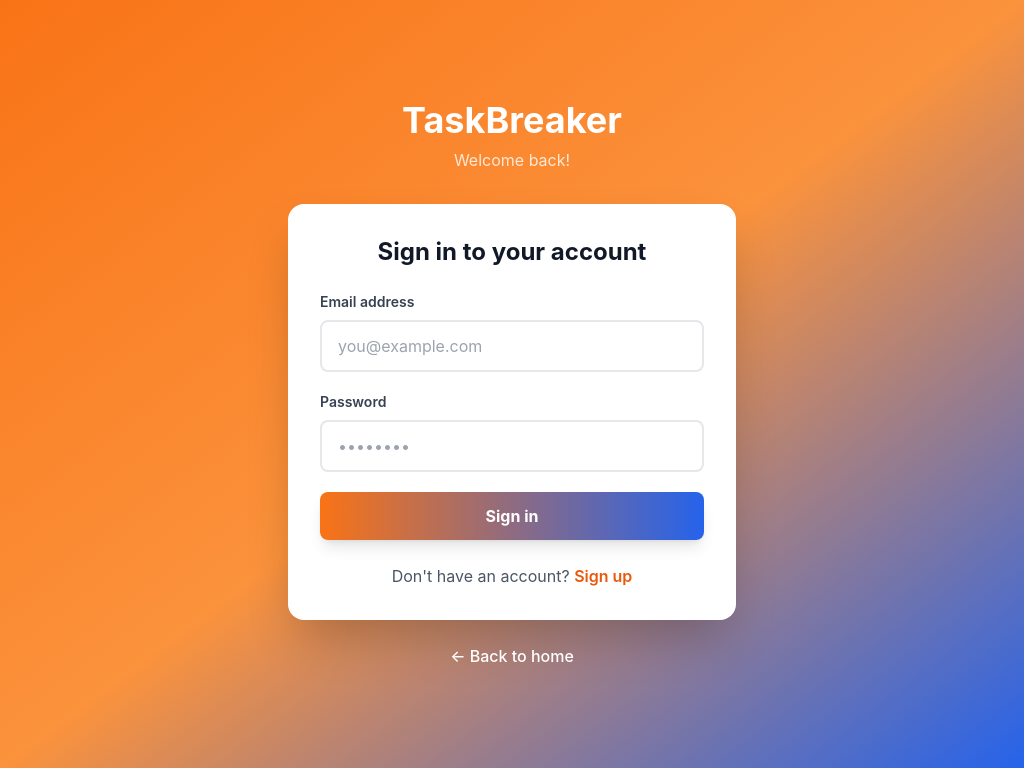
Test: LoginPage › Error Display › should clear error message when user retries
First attempt - fails
Type "test@example.com" into the field labelled "Email address" at (512, 346), box 320,320 -> 704,372
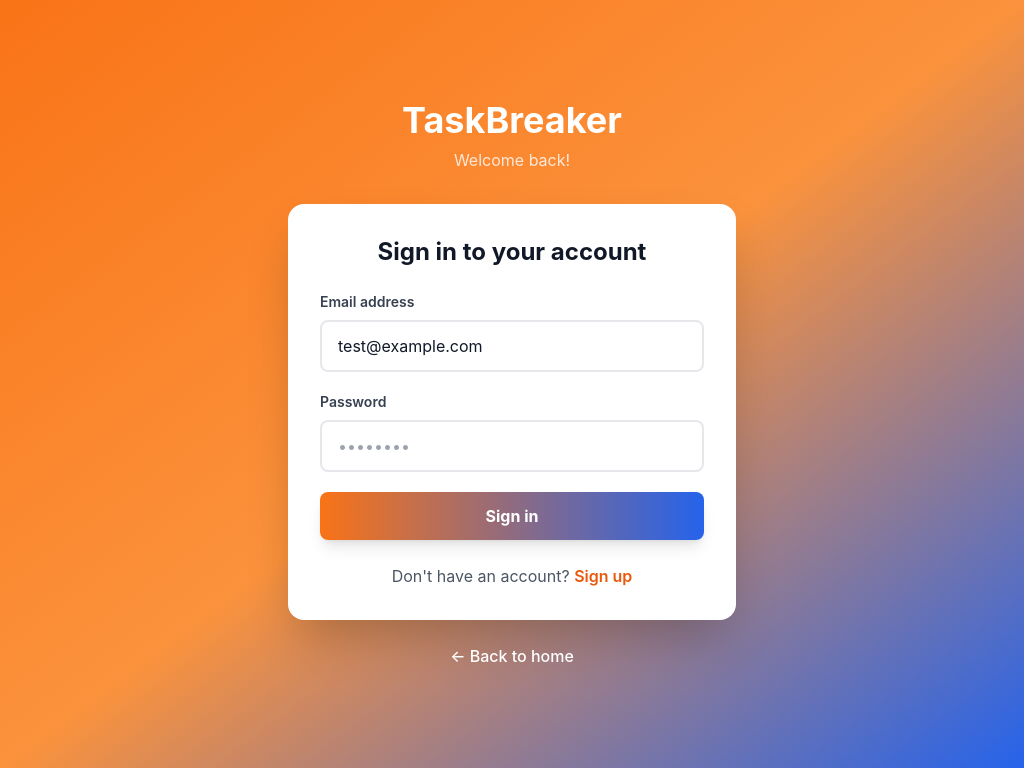
Type "wrongpassword" into the password field labelled "Password" at (512, 446), box 320,420 -> 704,472
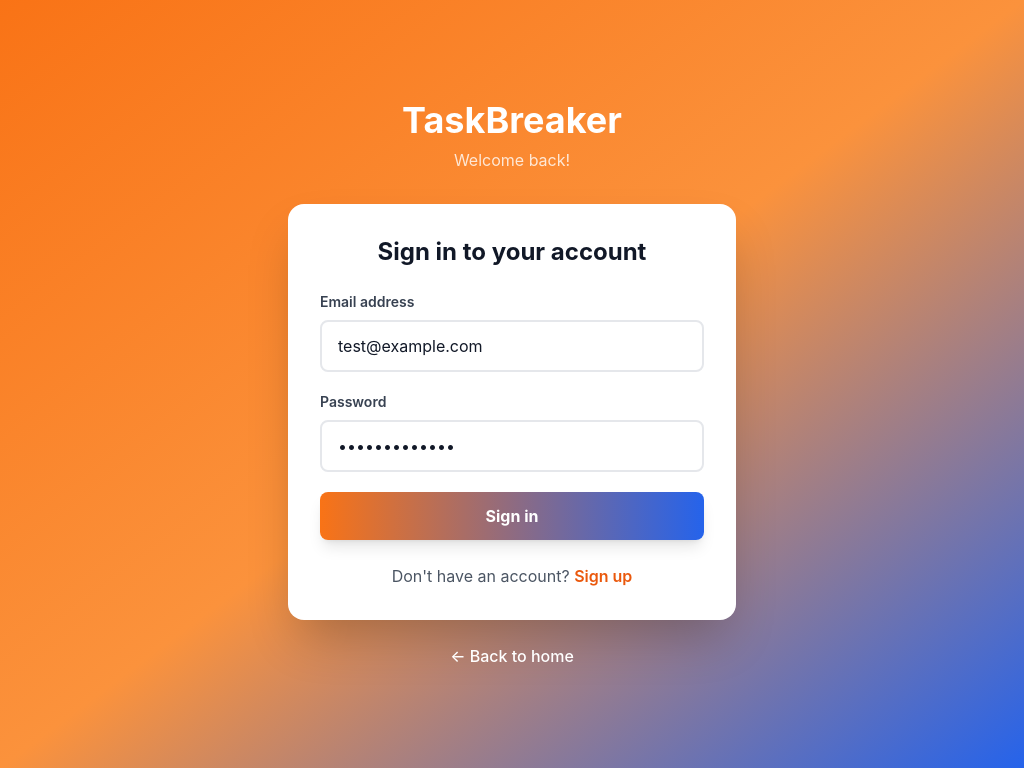
Click the button "Sign in" at (512, 516), box 320,492 -> 704,540
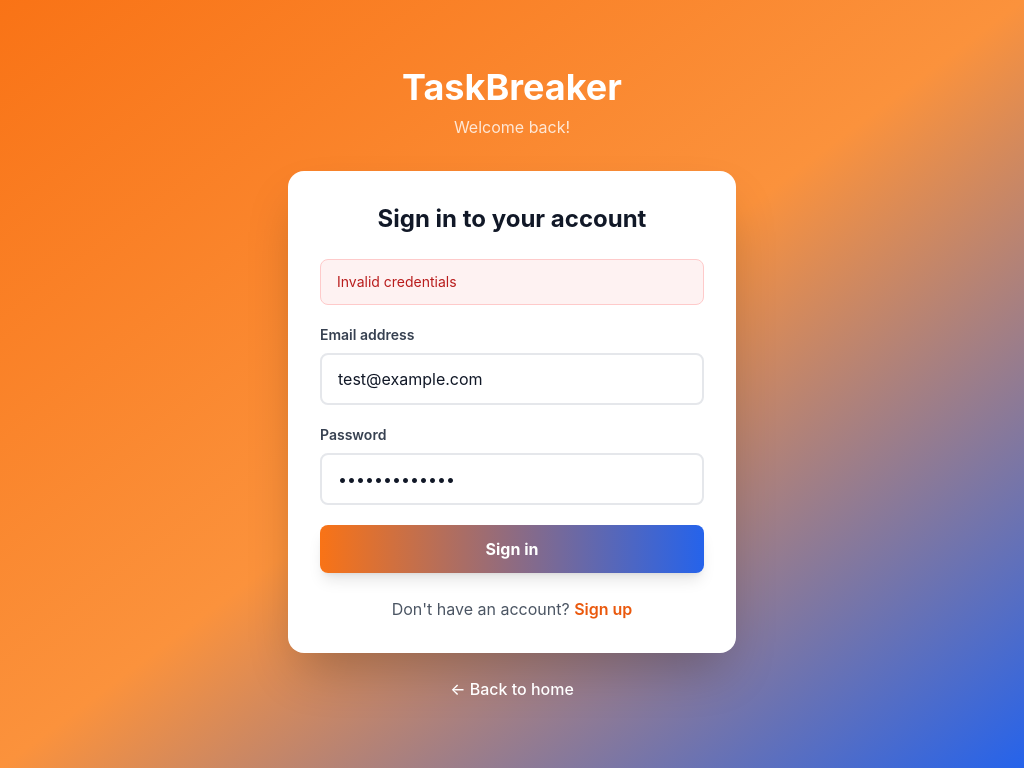
Check: the text "Invalid credentials" is shown, box 320,259 -> 704,305
Type "correctpassword" into the password field labelled "Password" at (512, 479), box 320,453 -> 704,505
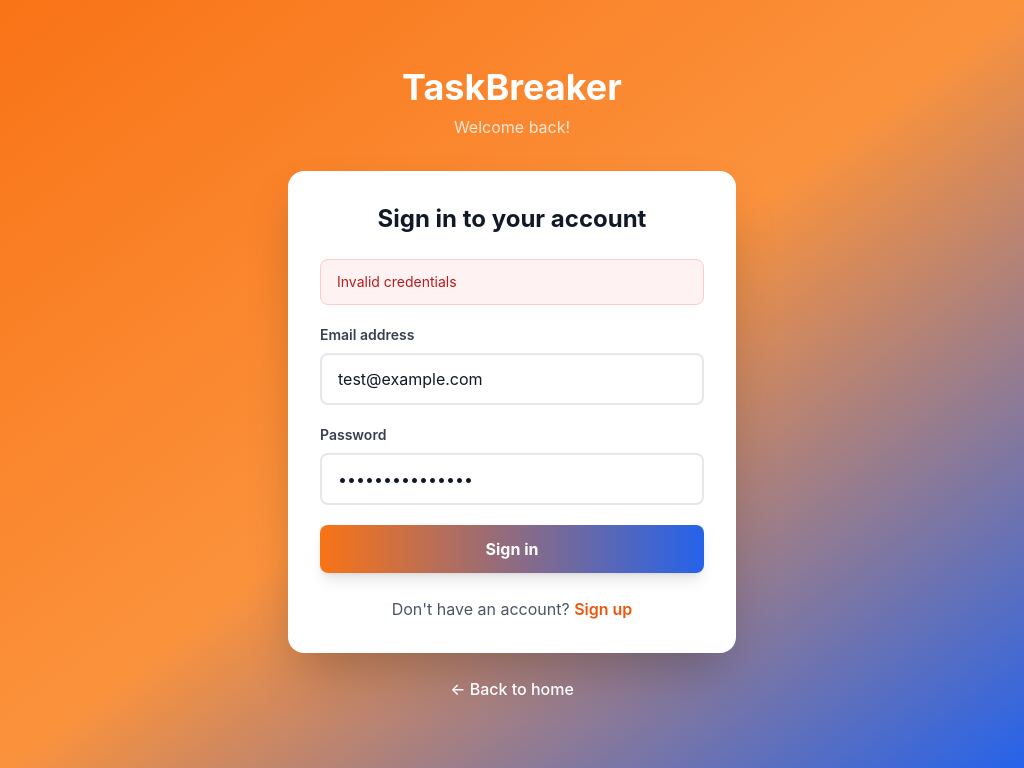
Click the button "Sign in" at (512, 549), box 320,525 -> 704,573
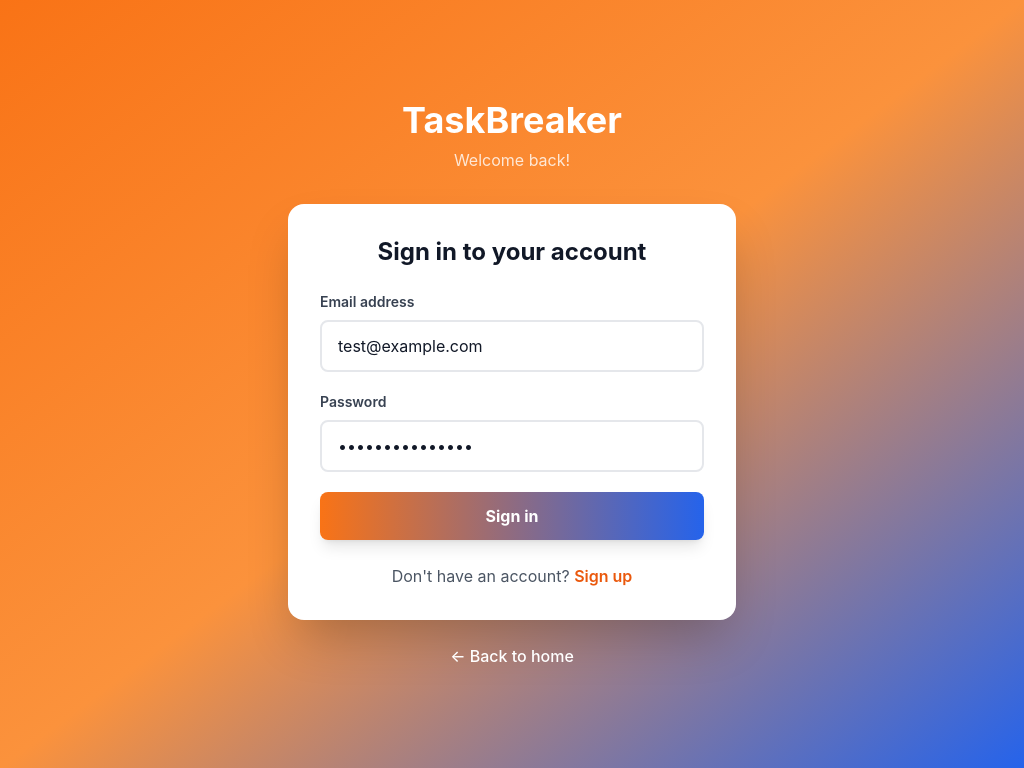
Check: the text "Invalid credentials" is gone
